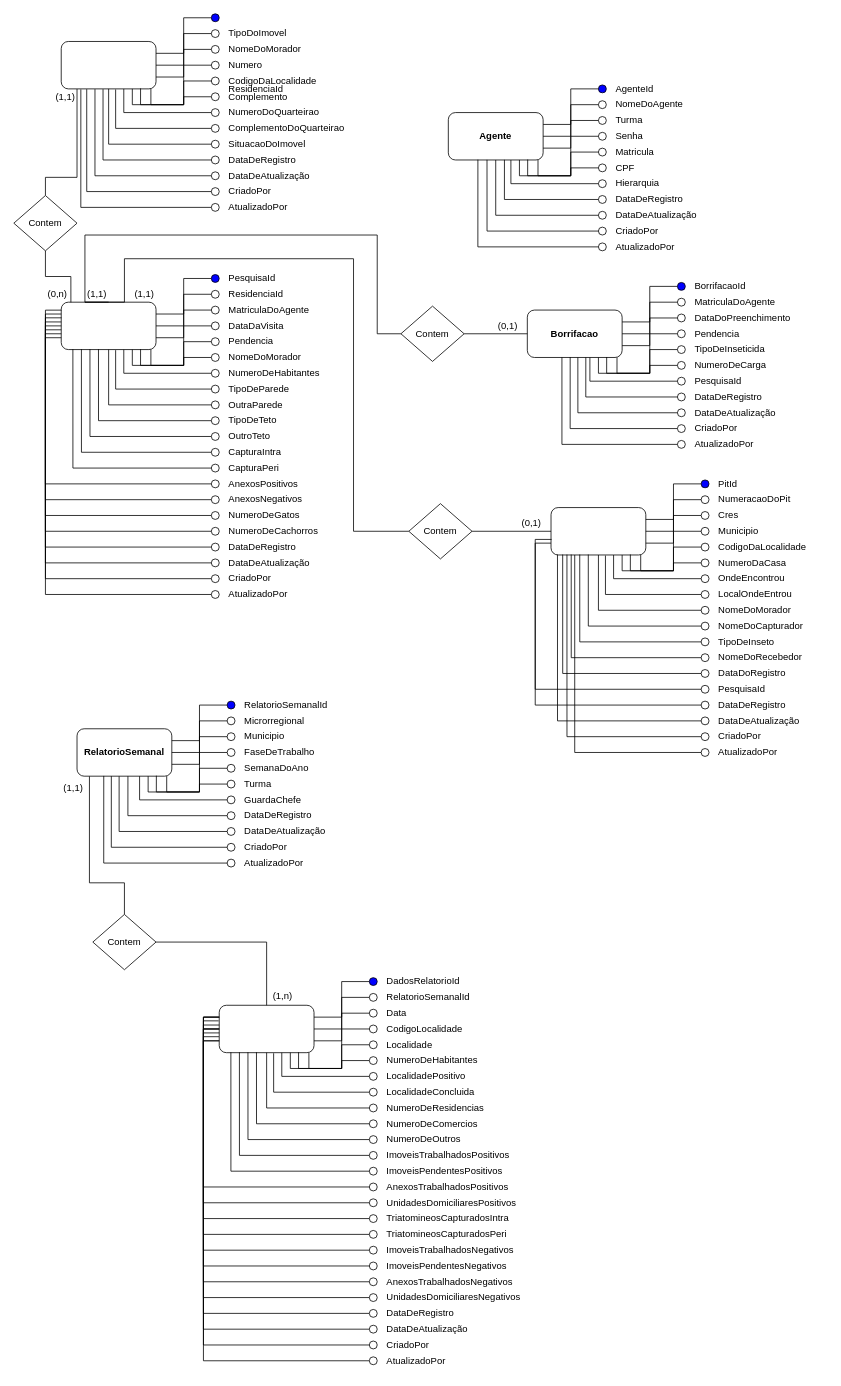
Some shapes in this 841 by 1386 pixel diagram are drawn without their labels. The centre of each missing label's shape, as x and y in pixels:
DadosRelatorio: the point at 266,1028
Pesquisa: the point at 108,325
PIT: the point at 598,531
Residencia: the point at 108,65
